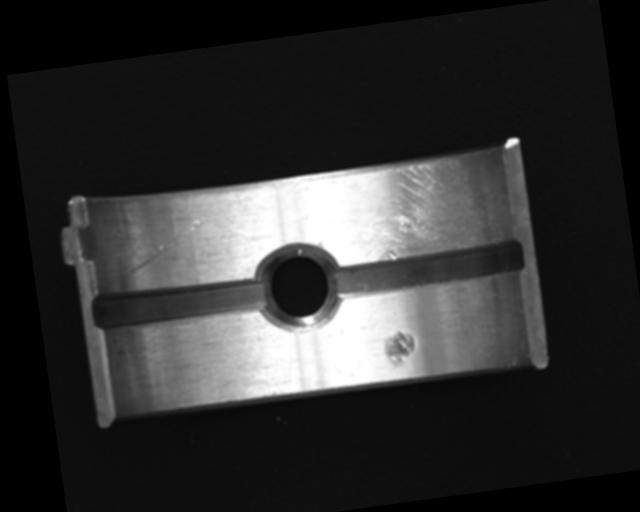bruise: (383, 328, 418, 371)
gap: (325, 236, 525, 301), (91, 274, 266, 334)
hole: (253, 236, 343, 335)
nick: (118, 216, 210, 278)
scratch: (322, 145, 505, 267)
